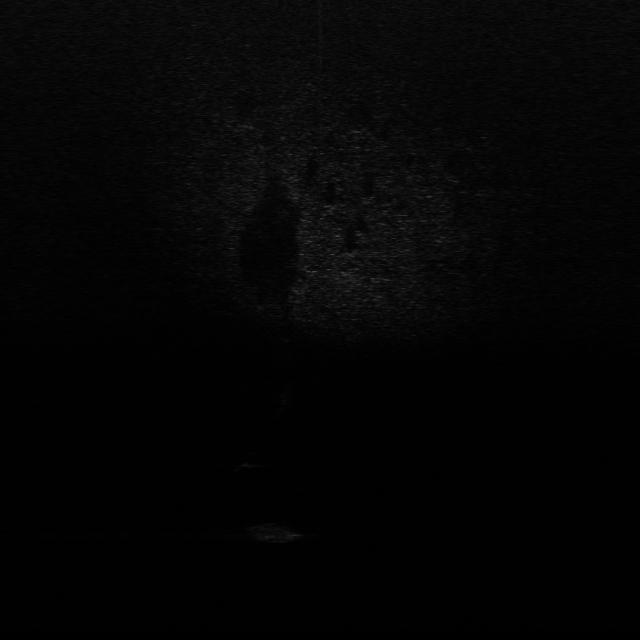ball: (240, 452, 266, 470)
circle cage: (246, 522, 308, 544)
human body: (277, 382, 299, 417)
